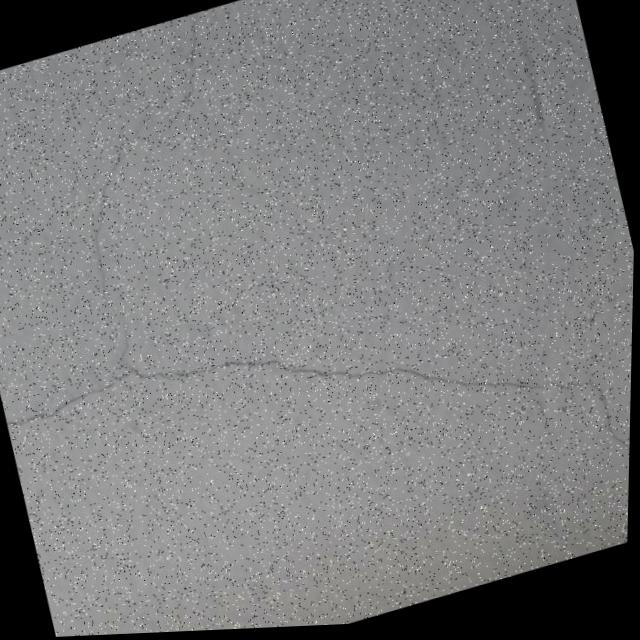Crack: (11, 230, 636, 639), (5, 6, 301, 380)
